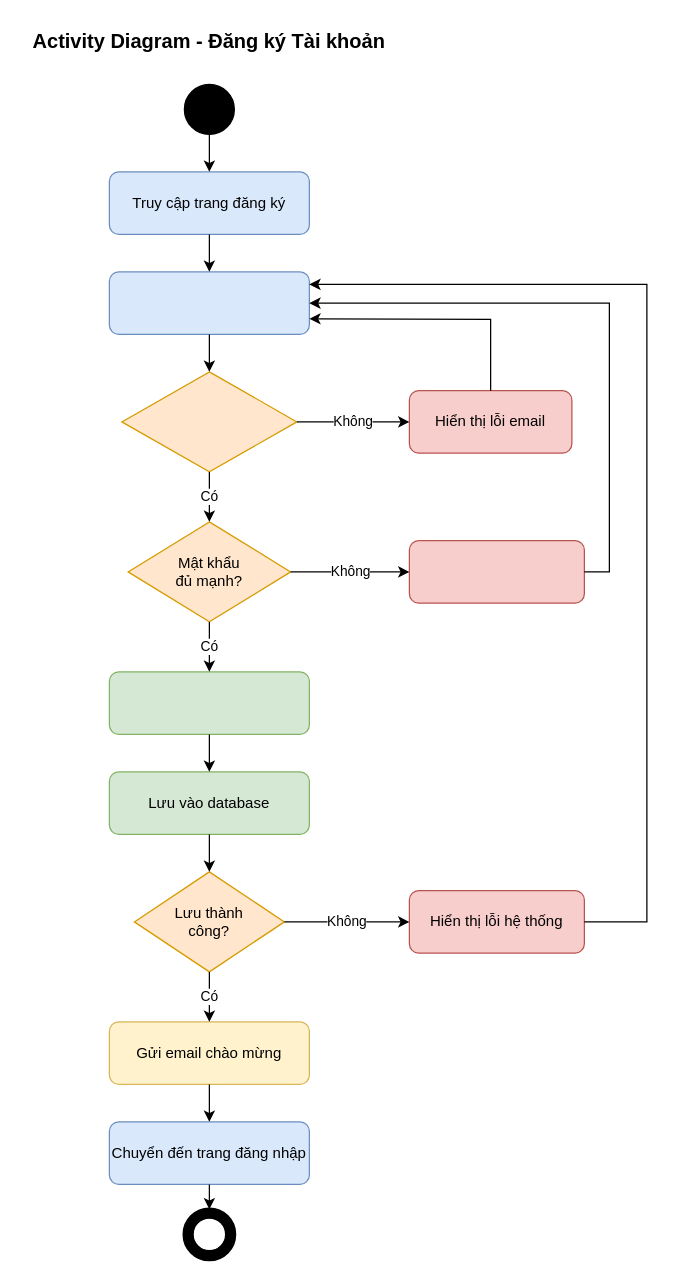
Image size: 679x1283. Some labels were removed from this diagram. The shapes that lost their labels are listed below. From the top down, each one's box as (x1, y1, x2, y2) in pixels, then its label:
(108, 271, 309, 334): Điền form đăng ký
(121, 371, 297, 472): Email hợp lệ & không trùng?
(408, 539, 584, 603): Hiển thị lỗi mật khẩu
(108, 671, 309, 734): Mã hóa mật khẩu
